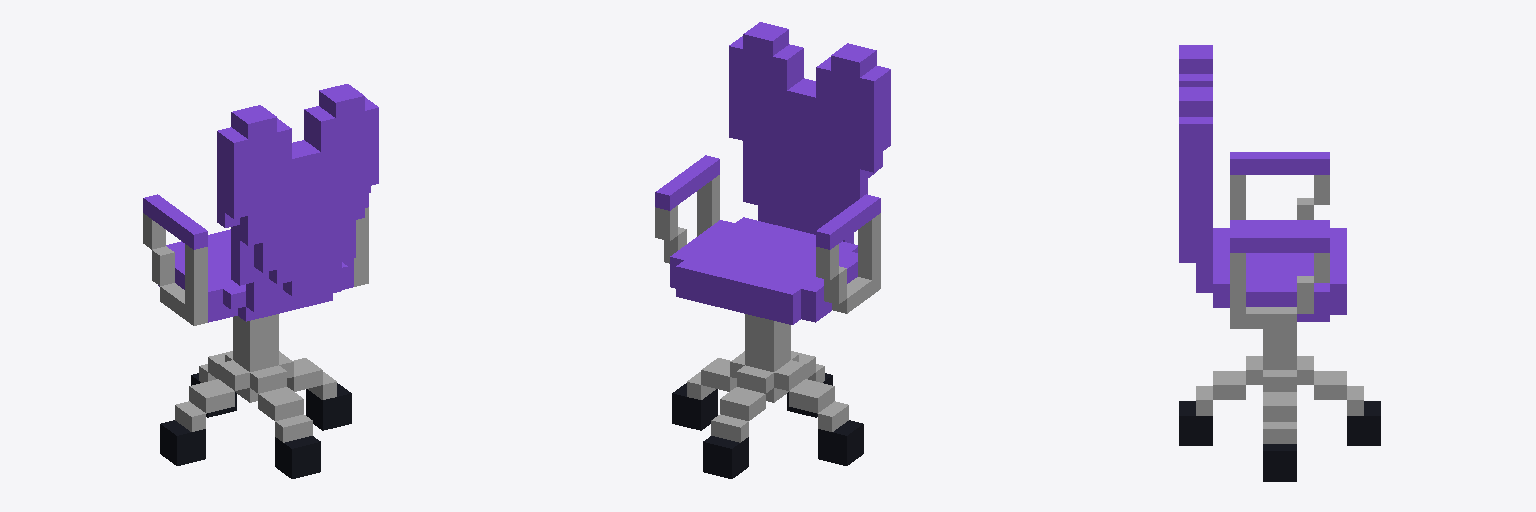
The picture shows the model from 3 angles: view 1: azimuth 30°, elevation 25°; view 2: azimuth 150°, elevation 25°; view 3: azimuth 270°, elevation 25°; orthographic projection.
Visible parts, largest first — view 1: object 1; view 2: object 1; view 3: object 1.
Boxes of the visible parts, x1=… form: object 1: x1=143, y1=84, x2=378, y2=478; object 1: x1=655, y1=22, x2=890, y2=478; object 1: x1=1179, y1=45, x2=1380, y2=481.
Size of the model in its own units: 1.2 by 2.4 by 1.2.
Materials: 1 (1 with a texture image).